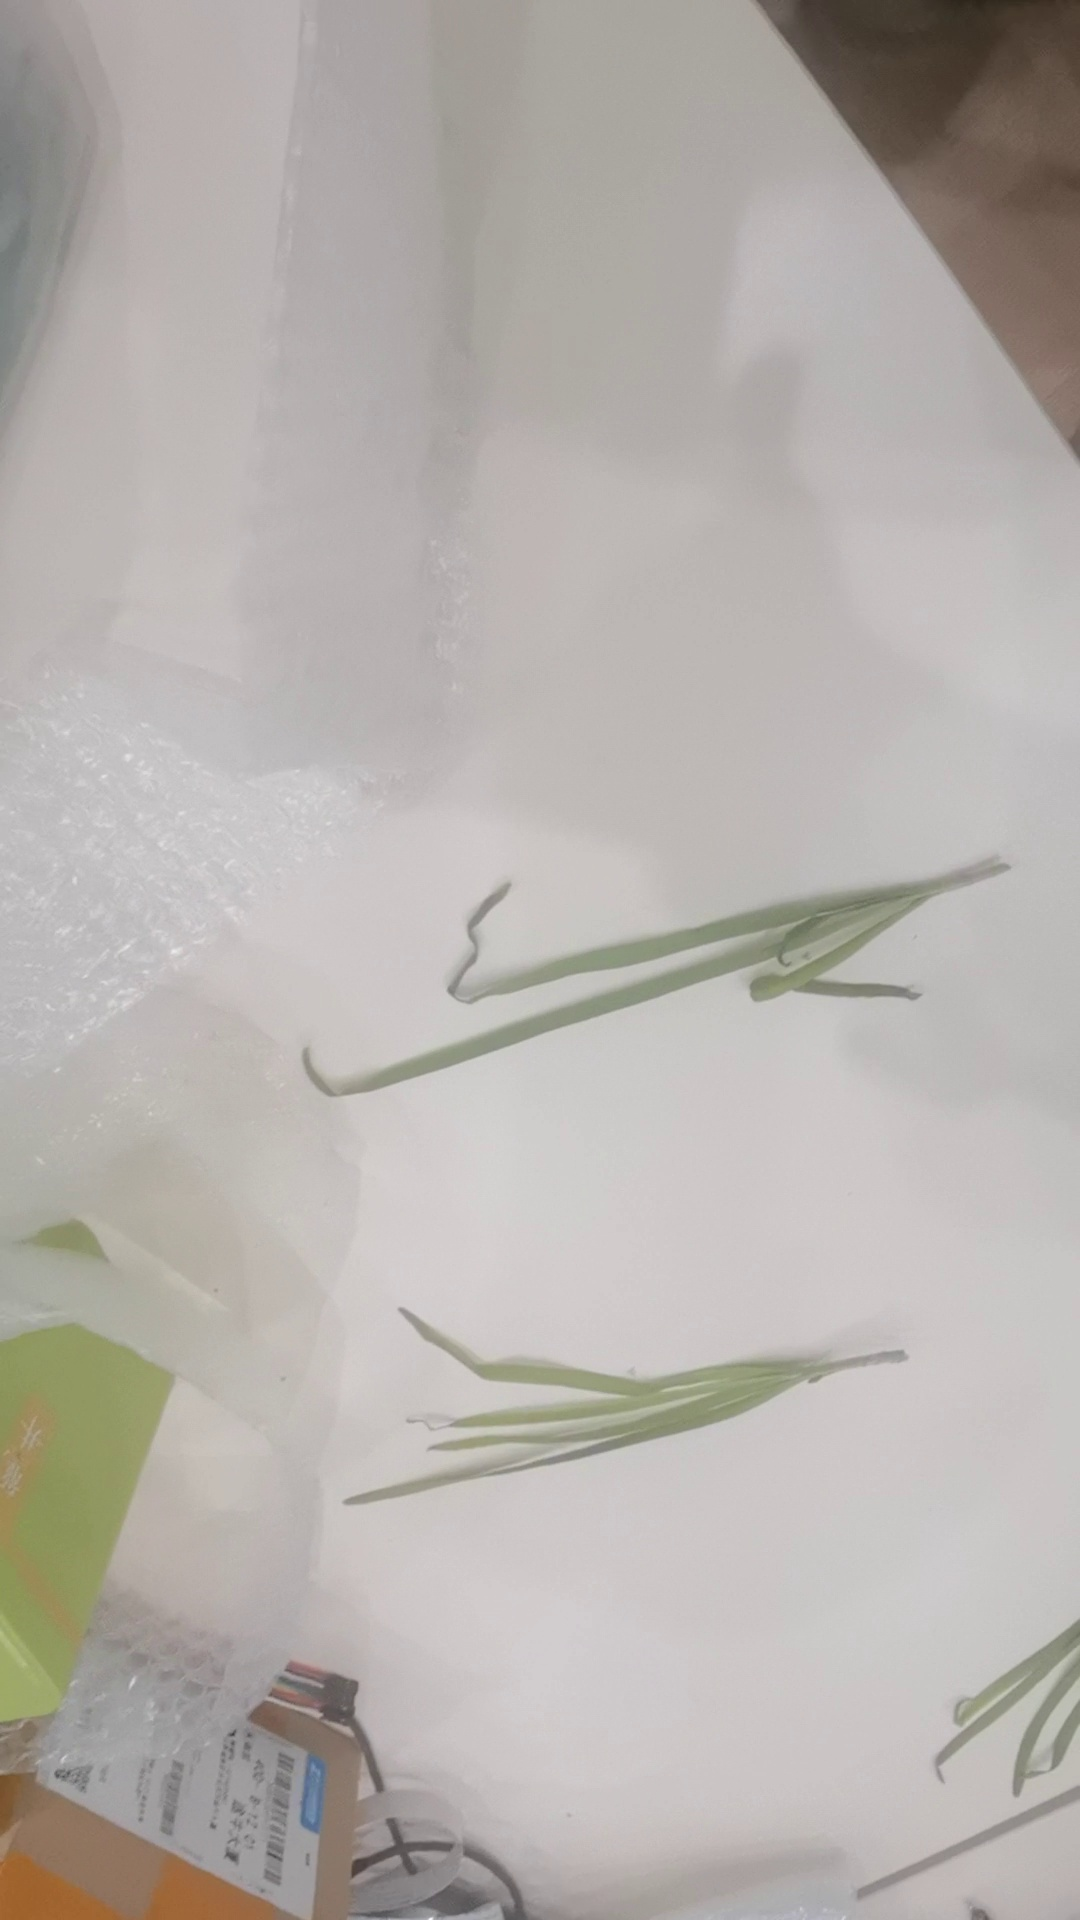chives: (280, 860, 1030, 1098), (295, 1304, 906, 1509)
